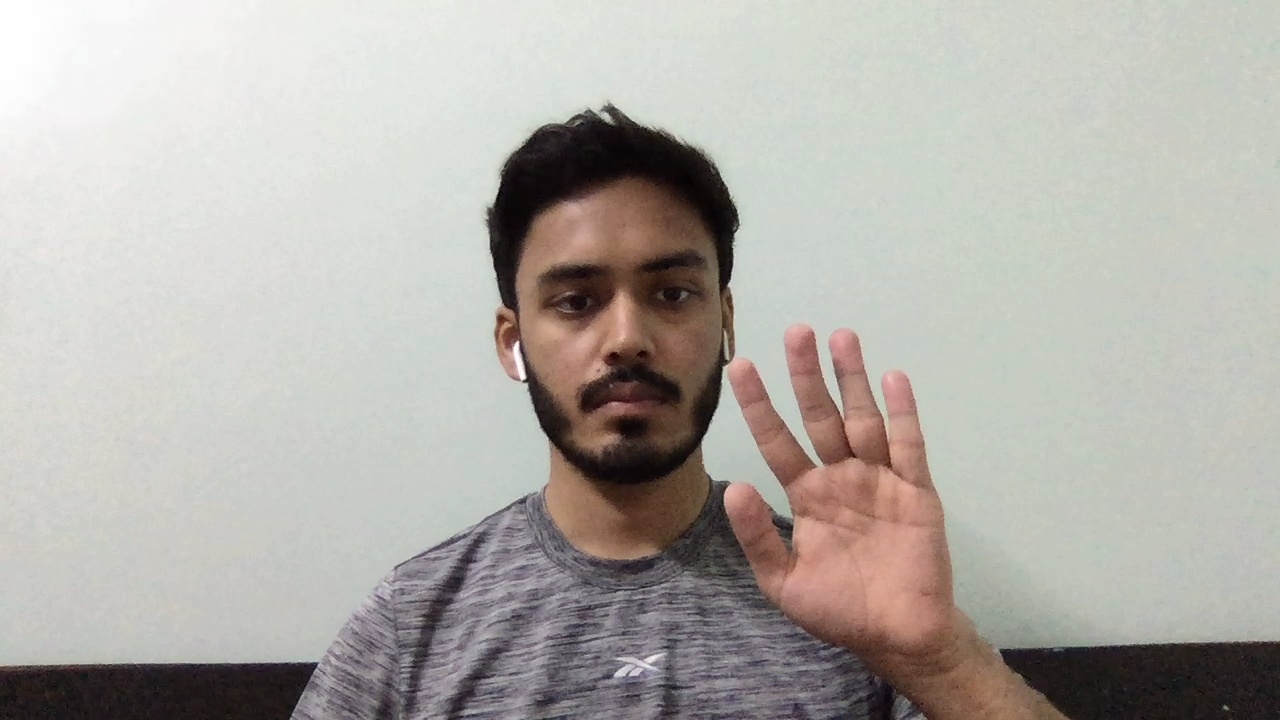Hello: (710, 315, 999, 652)
